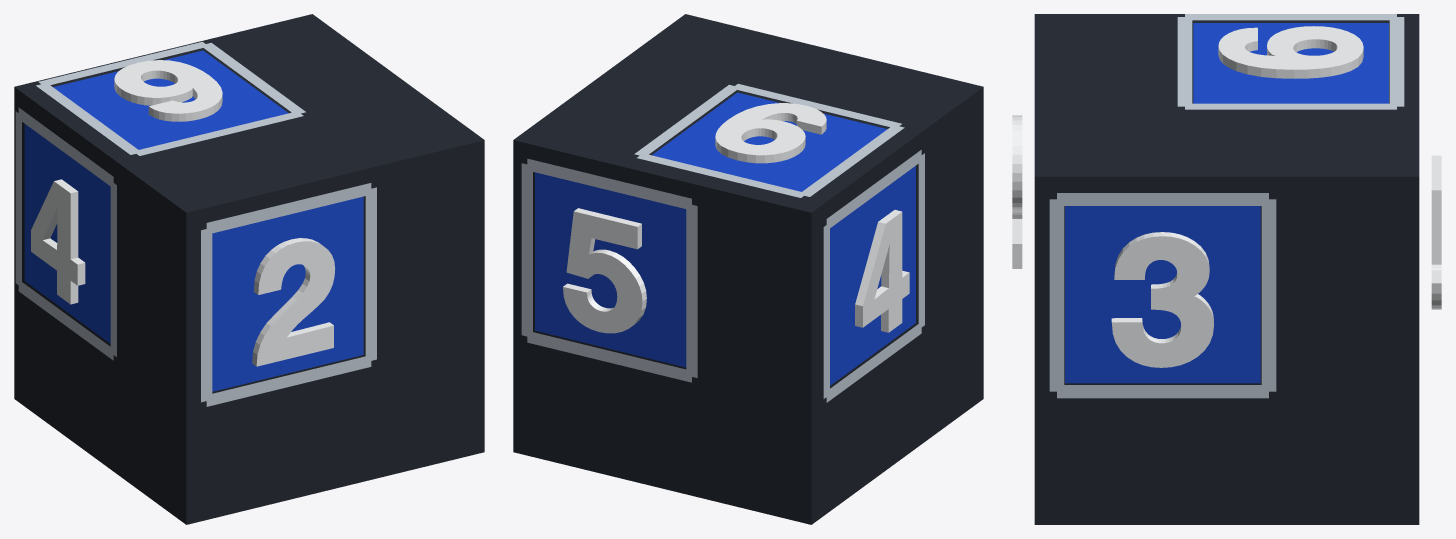
The picture shows the model from 3 angles, left to right: view 1: azimuth 30°, elevation 25°; view 2: azimuth 150°, elevation 25°; view 3: azimuth 270°, elevation 25°; orthographic projection. The views are drawn at different scales.
Parts seen in each view (by area): view 1: iron-d6_body, inset_face_panel (×3), face_frame (×12), face_2_beveled_number, face_6_beveled_number, face_4_beveled_number; view 2: iron-d6_body, inset_face_panel (×3), face_frame (×12), face_5_beveled_number, face_6_beveled_number, face_4_beveled_number; view 3: iron-d6_body, inset_face_panel (×2), face_frame (×8), face_3_beveled_number, face_6_beveled_number, face_5_beveled_number, face_2_beveled_number.
Part boxes in pixels (x1,y1,x2,y2): iron-d6_body: (14,14,484,524); inset_face_panel (×3): (24,50,363,391); face_frame (×12): (15,41,376,406); face_2_beveled_number: (252,238,335,366); face_6_beveled_number: (114,60,222,121); face_4_beveled_number: (31,179,85,304); iron-d6_body: (513,14,983,524); inset_face_panel (×3): (535,92,915,385); face_frame (×12): (521,83,924,402); face_5_beveled_number: (563,208,646,333); face_6_beveled_number: (715,103,826,163); face_4_beveled_number: (855,210,909,332); iron-d6_body: (1034,14,1419,524); inset_face_panel (×2): (1065,23,1388,383); face_frame (×8): (1049,14,1404,398); face_3_beveled_number: (1111,232,1213,367); face_6_beveled_number: (1218,26,1363,78); face_5_beveled_number: (1431,155,1441,309); face_2_beveled_number: (1012,115,1022,268).
Size of the model in its own units: 1.12 by 1.12 by 1.12.
